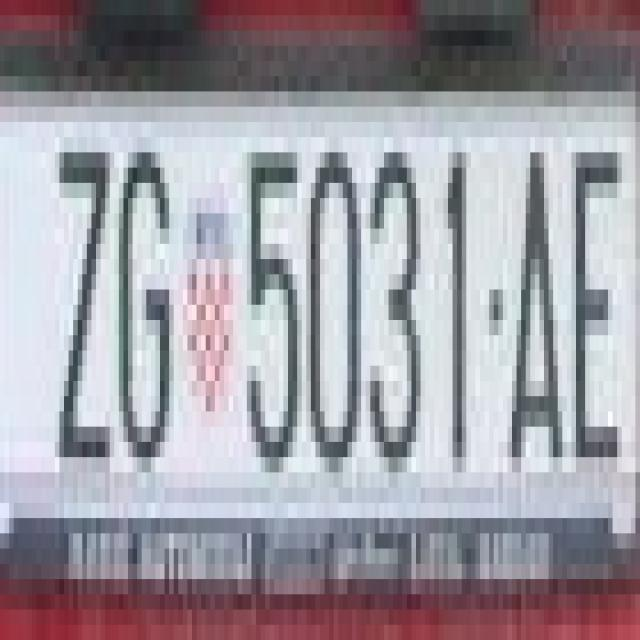0: (306, 137, 361, 457)
1: (437, 138, 473, 472)
3: (368, 130, 423, 464)
5: (244, 130, 300, 464)
A: (508, 137, 562, 457)
E: (569, 137, 624, 457)
G: (116, 145, 172, 465)
Z: (53, 130, 112, 464)
